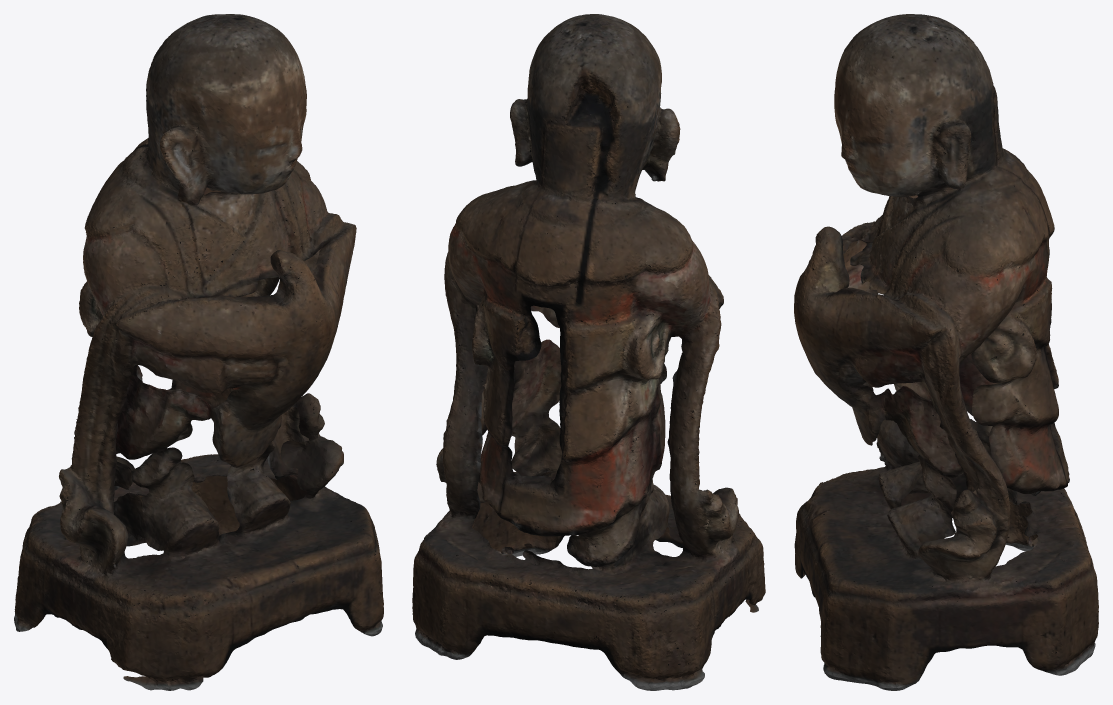
File: dongja-reconstruction.glb
3 renders of one model, left to right at view 1: azimuth 30°, elevation 25°; view 2: azimuth 150°, elevation 25°; view 3: azimuth 270°, elevation 25°, orthographic. The views are drawn at different scales.
Parts seen in each view (by area): view 1: mesh.ply; view 2: mesh.ply; view 3: mesh.ply.
Part boxes in pixels (x1,y1,x2,y2): mesh.ply: (14, 14, 383, 690); mesh.ply: (412, 14, 765, 690); mesh.ply: (794, 14, 1098, 690).
Bounding box in the file's own units: 0.2627 × 0.509 × 0.2325.
1 material, 1 textured.
